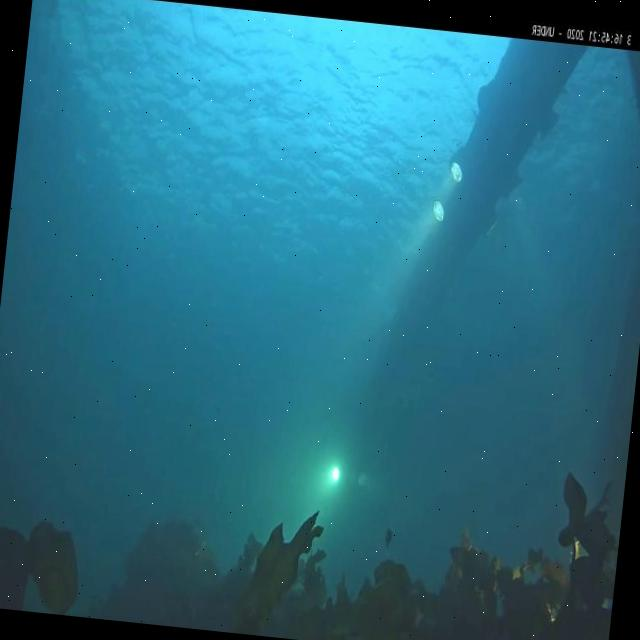fish: (382, 527, 394, 549)
